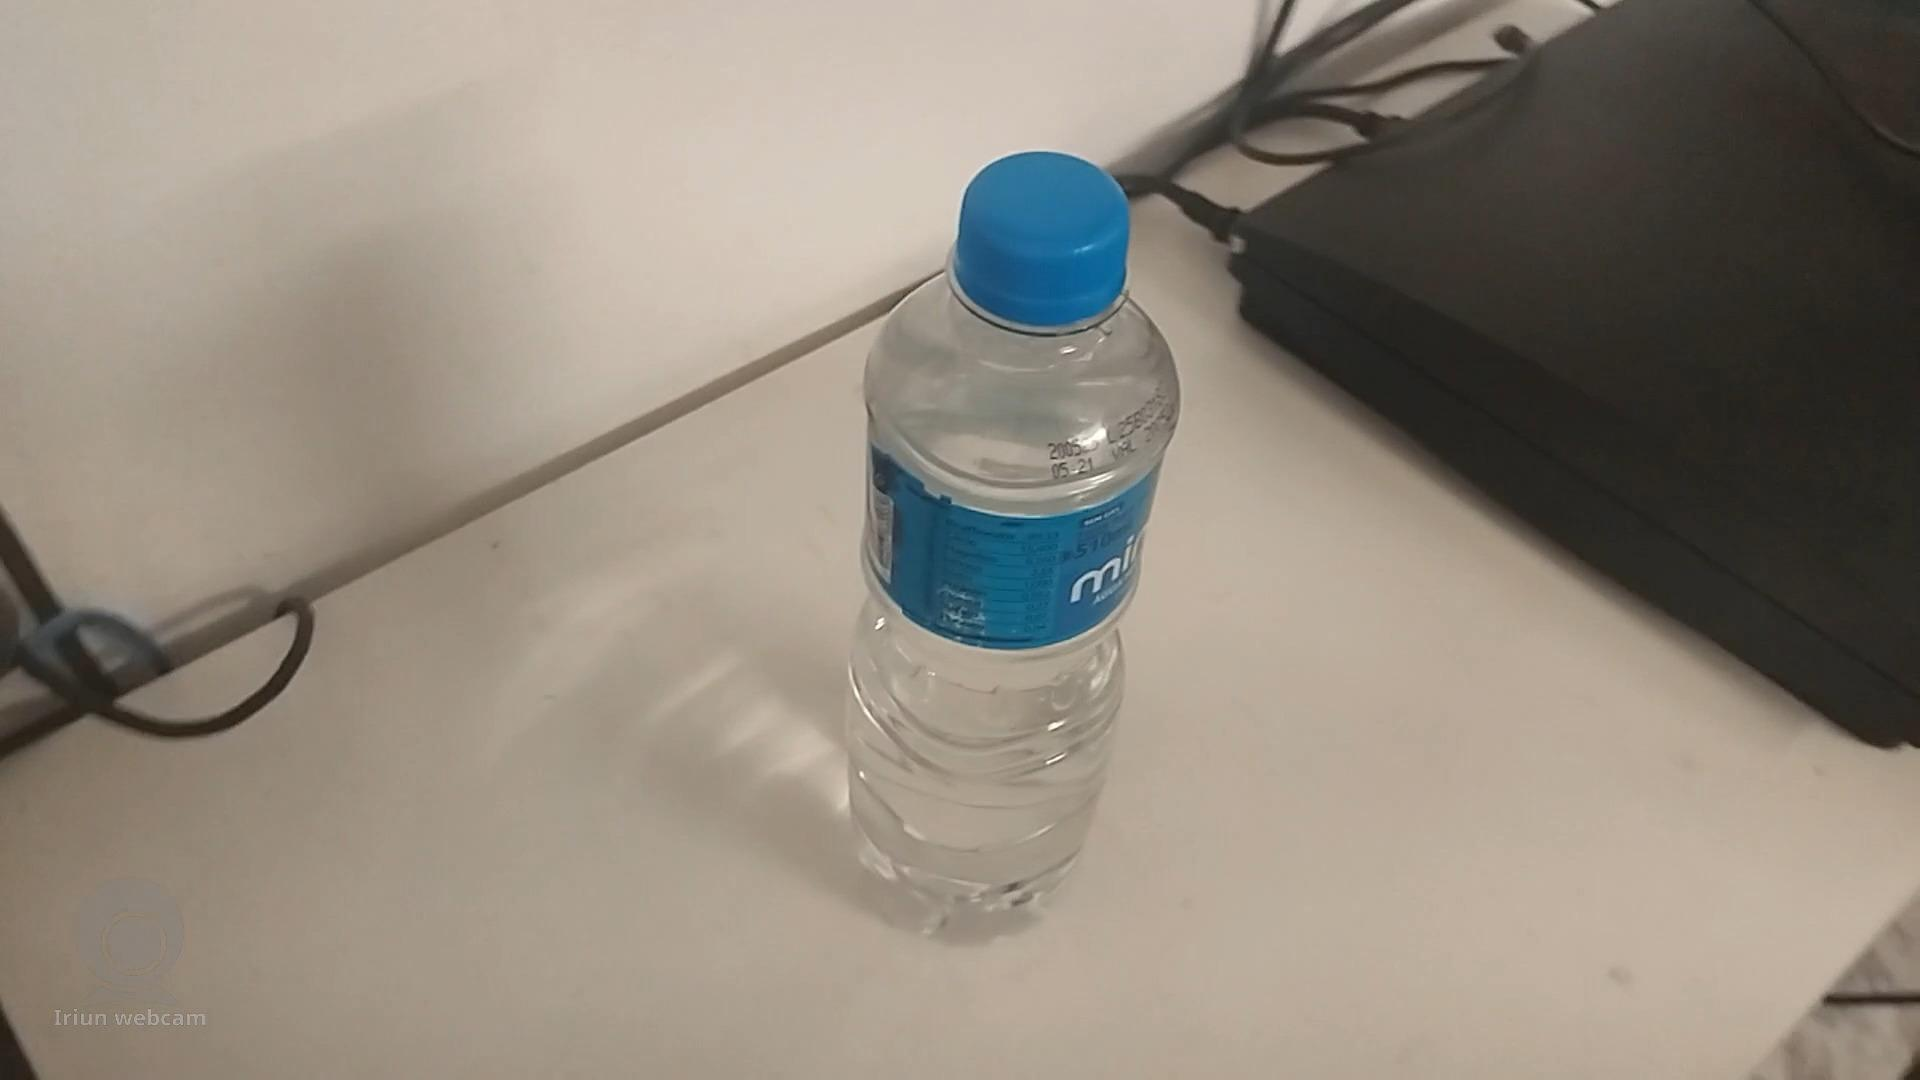agua: (849, 146, 1170, 916)
